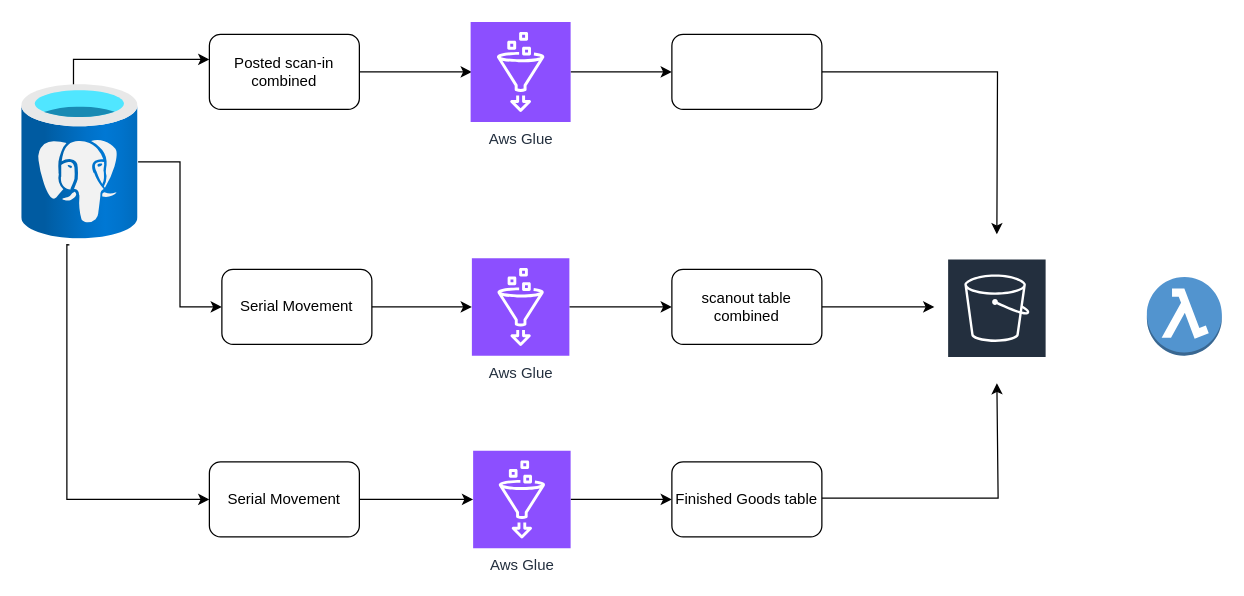
This 1244x596 diagram has some shape labels left out. The centre of each missing label's shape, as x and y in pixels:
"Amazon S3" goes at (x=996, y=320).
"Data warehouse" goes at (x=79, y=161).
"Product table" goes at (x=746, y=71).
